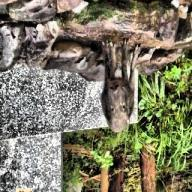boar: (99, 39, 141, 134)
